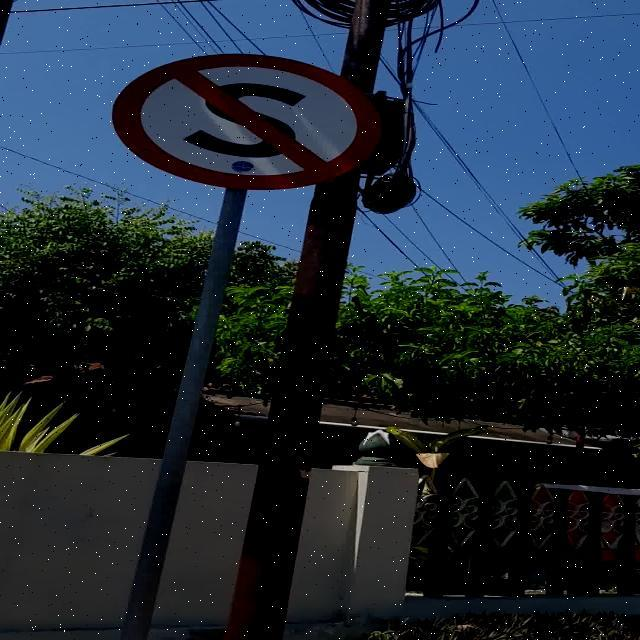Dilarang Berhenti: (111, 52, 382, 190)
